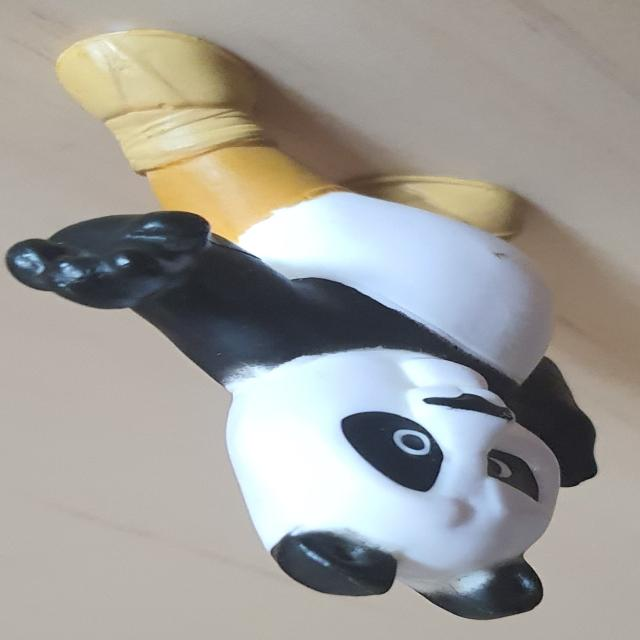Panda: (6, 31, 595, 619)
